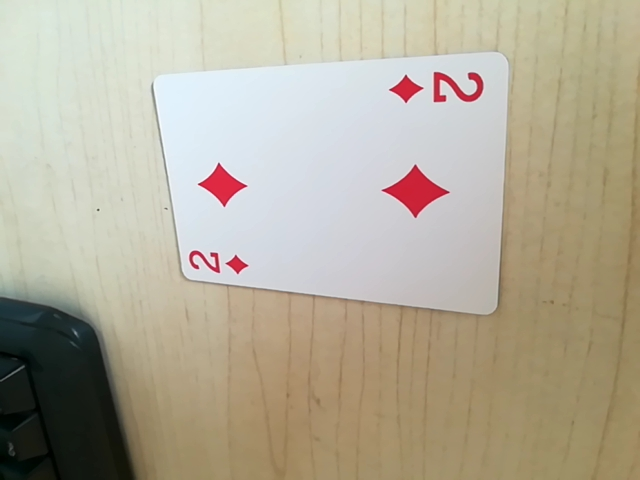fk 2: (390, 65, 488, 113), (184, 243, 255, 283)
